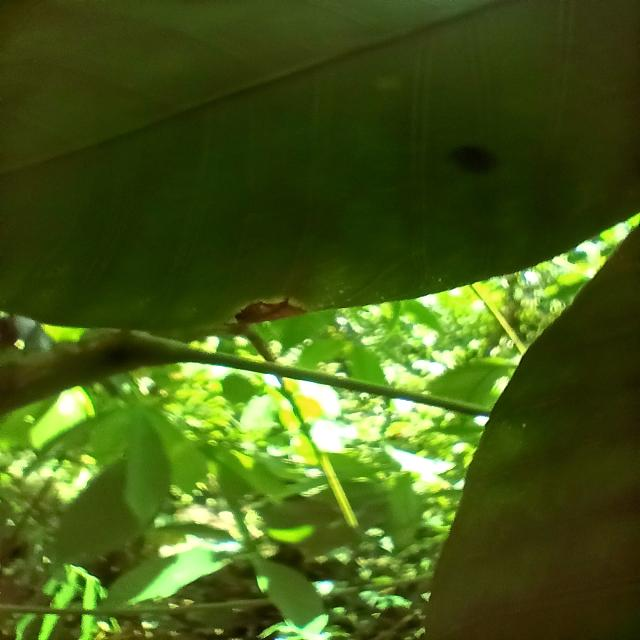Leaf-Blight: (234, 302, 306, 324)
